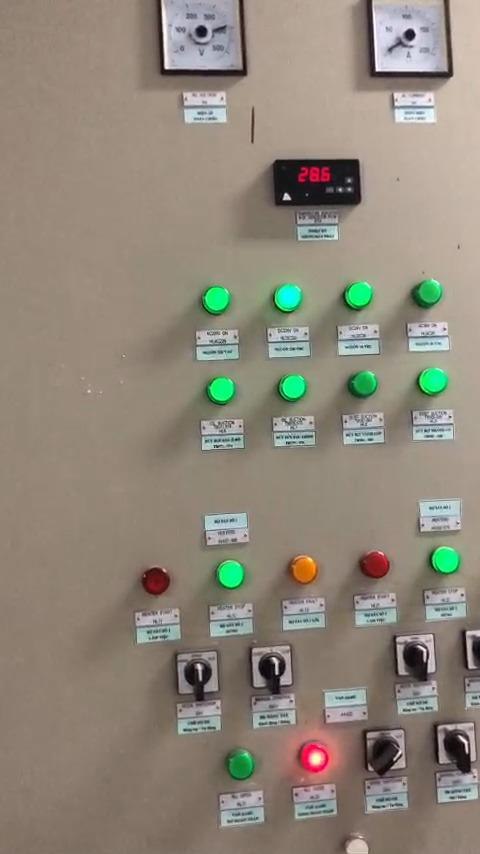led: (223, 746, 256, 779), (138, 565, 170, 595), (298, 741, 329, 771), (413, 280, 443, 310), (270, 285, 300, 314), (354, 548, 383, 578), (285, 552, 313, 582), (345, 371, 373, 400), (417, 364, 444, 394), (427, 544, 454, 574), (202, 285, 229, 314), (344, 283, 373, 309), (217, 558, 243, 586), (279, 374, 308, 399), (339, 830, 368, 854), (208, 379, 234, 404)
twist: (175, 650, 218, 695), (363, 728, 403, 772), (249, 644, 288, 688), (389, 633, 429, 674), (433, 720, 469, 762), (458, 628, 480, 668)
